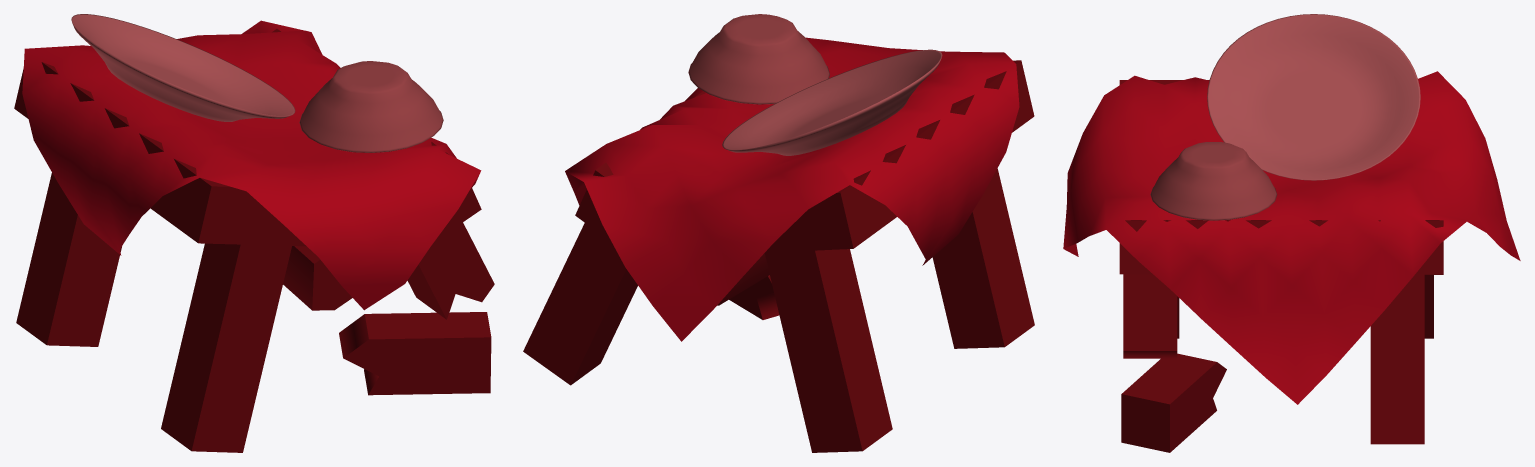
The model's file is red_broken_plating.fbx.
3 renders of one model, left to right at view 1: azimuth 30°, elevation 25°; view 2: azimuth 150°, elevation 25°; view 3: azimuth 270°, elevation 25°, orthographic. The views are drawn at different scales.
Parts seen in each view (by area): view 1: brokencloth, brokenchopping:leg7, plating:stations:Plate, brokenchopping:pCube4, brokenchopping:leg4, plating:stations:Bowl, brokenchopping:pCube1, brokenchopping:pCube3, brokenchopping:pCube2; view 2: brokencloth, brokenchopping:leg4, plating:stations:Plate, brokenchopping:leg7, brokenchopping:leg6, plating:stations:Bowl, brokenchopping:pCube1, brokenchopping:pCube2, brokenchopping:pCube4; view 3: brokencloth, plating:stations:Plate, brokenchopping:leg6, plating:stations:Bowl, brokenchopping:pCube4, brokenchopping:pCube3, brokenchopping:pCube2, brokenchopping:leg4.
Boxes of the visible parts, left/top/right/bottom form: brokencloth: left=22, top=20, right=481, bottom=310; brokenchopping:leg7: left=161, top=243, right=291, bottom=452; plating:stations:Plate: left=71, top=14, right=295, bottom=121; brokenchopping:pCube4: left=339, top=312, right=491, bottom=395; brokenchopping:leg4: left=16, top=173, right=121, bottom=346; plating:stations:Bowl: left=299, top=61, right=443, bottom=152; brokenchopping:pCube1: left=14, top=62, right=306, bottom=246; brokenchopping:pCube3: left=407, top=222, right=494, bottom=319; brokenchopping:pCube2: left=272, top=29, right=481, bottom=310; brokencloth: left=565, top=37, right=1019, bottom=341; brokenchopping:leg4: left=764, top=249, right=892, bottom=452; plating:stations:Plate: left=722, top=49, right=942, bottom=155; brokenchopping:leg7: left=932, top=168, right=1034, bottom=348; brokenchopping:leg6: left=523, top=223, right=637, bottom=385; plating:stations:Bowl: left=688, top=14, right=829, bottom=104; brokenchopping:pCube1: left=765, top=60, right=1034, bottom=252; brokenchopping:pCube2: left=575, top=91, right=769, bottom=305; brokenchopping:pCube4: left=729, top=275, right=779, bottom=319; brokencloth: left=1063, top=71, right=1520, bottom=404; plating:stations:Plate: left=1207, top=14, right=1420, bottom=180; brokenchopping:leg6: left=1370, top=274, right=1424, bottom=444; plating:stations:Bowl: left=1150, top=142, right=1277, bottom=220; brokenchopping:pCube4: left=1121, top=353, right=1226, bottom=452; brokenchopping:pCube3: left=1123, top=274, right=1177, bottom=358; brokenchopping:pCube2: left=1119, top=220, right=1443, bottom=274; brokenchopping:leg4: left=1424, top=275, right=1433, bottom=338.
Size of the model in its own units: 35.18 by 31.13 by 42.36.
